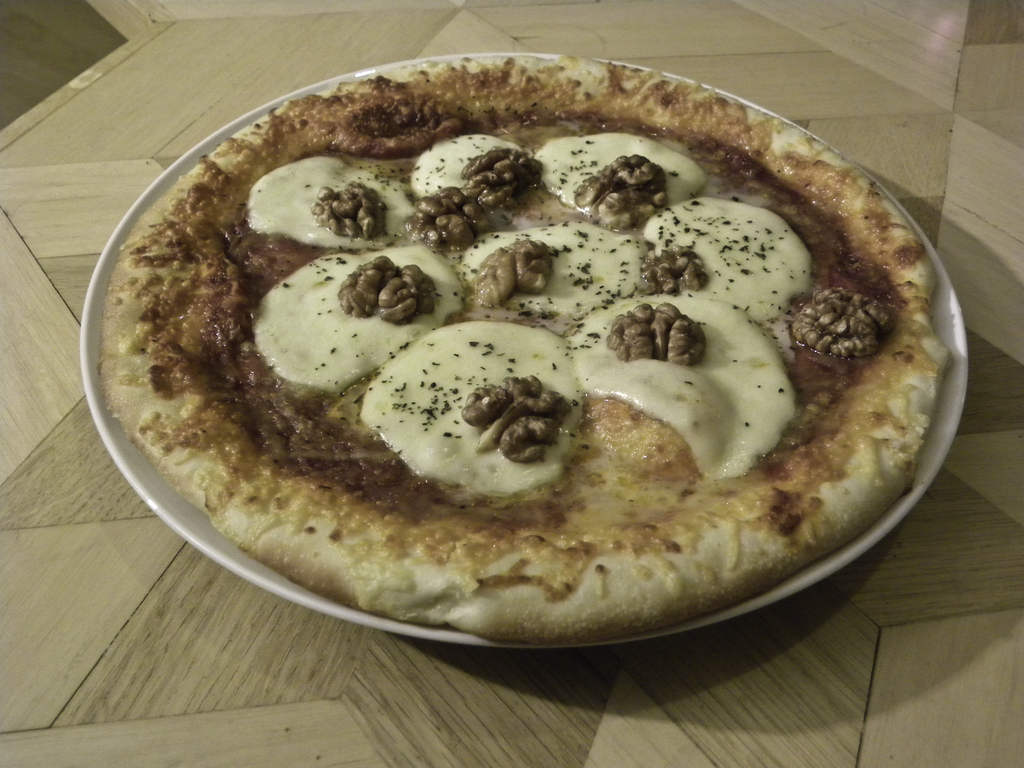Pizza: (91, 56, 947, 641)
